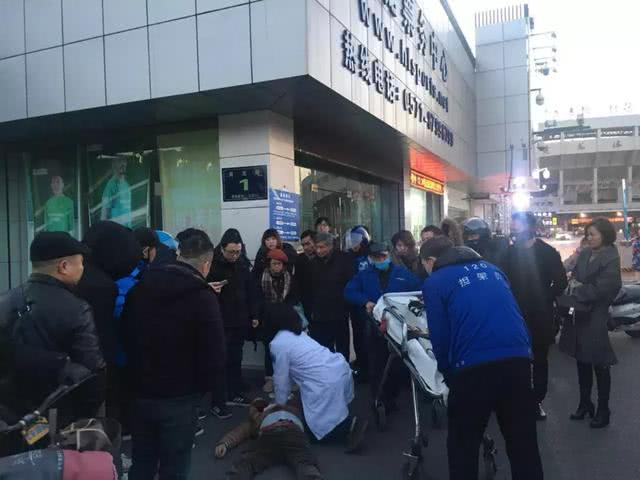10+: (1, 187, 634, 474)
down: (211, 376, 327, 479)
